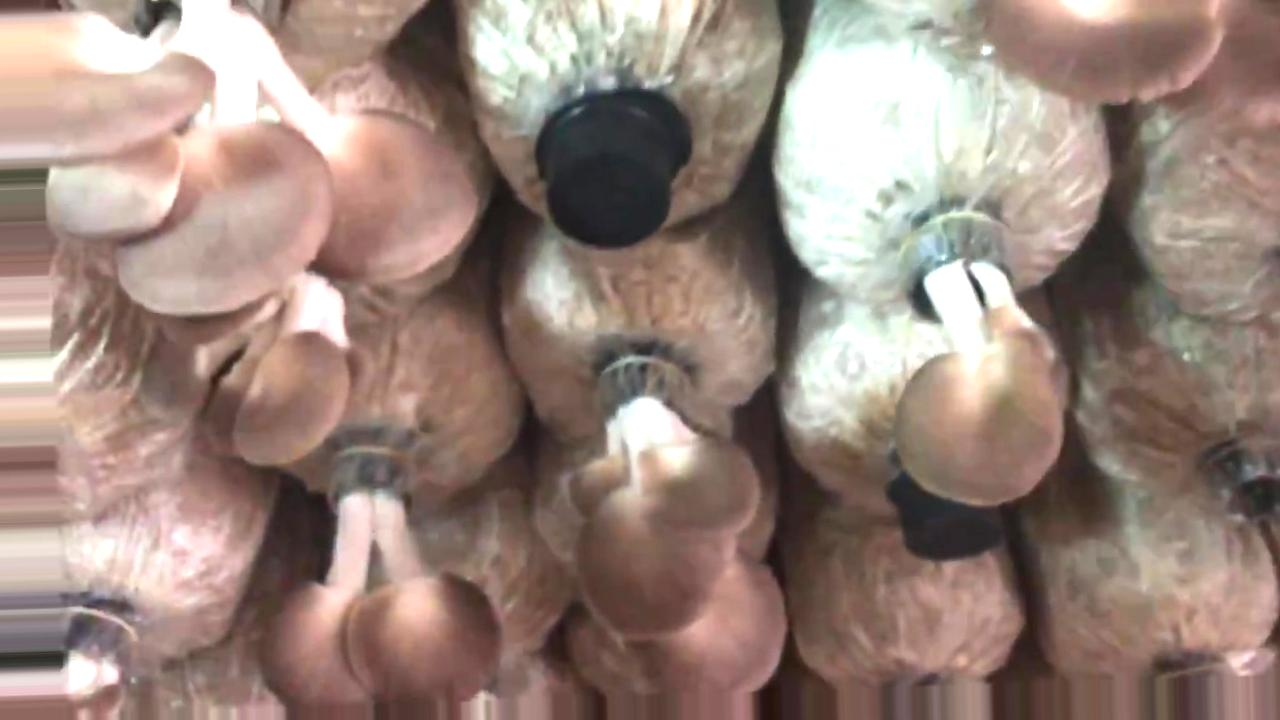nam: (3, 1, 474, 318), (574, 358, 787, 691), (259, 450, 501, 720), (895, 221, 1063, 505), (146, 271, 370, 466), (989, 1, 1220, 108), (1, 602, 132, 720)
